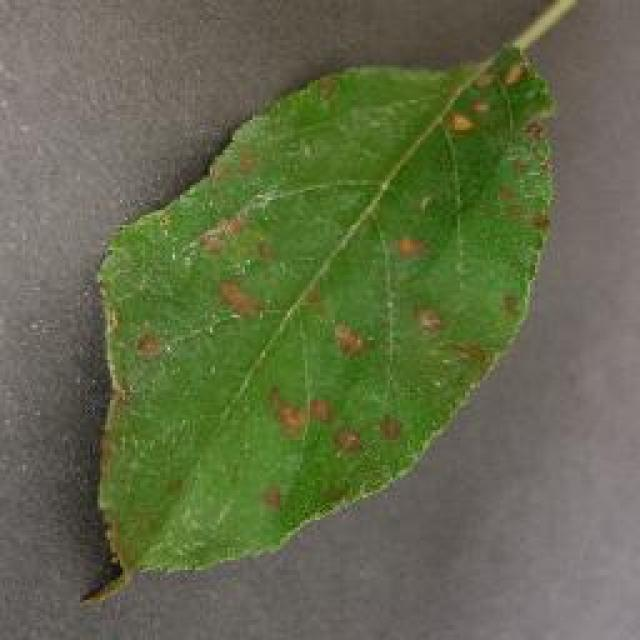Apple___Cedar_apple_rust: (78, 38, 562, 606)
